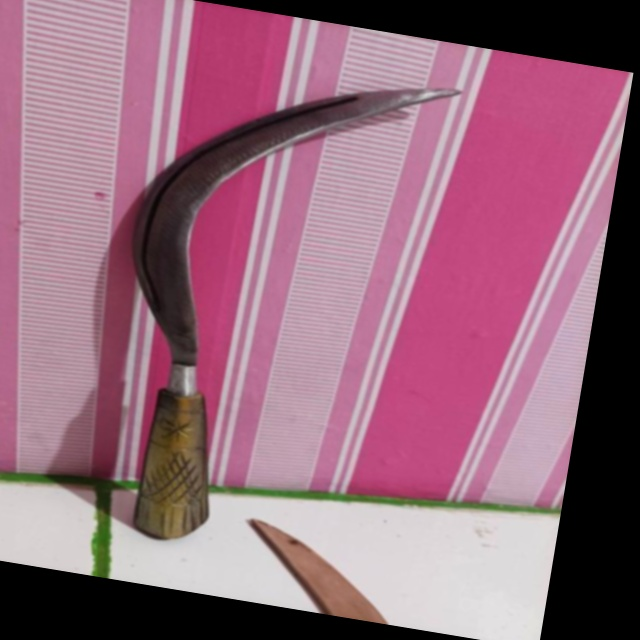Sharp-Object: (91, 27, 469, 587)
